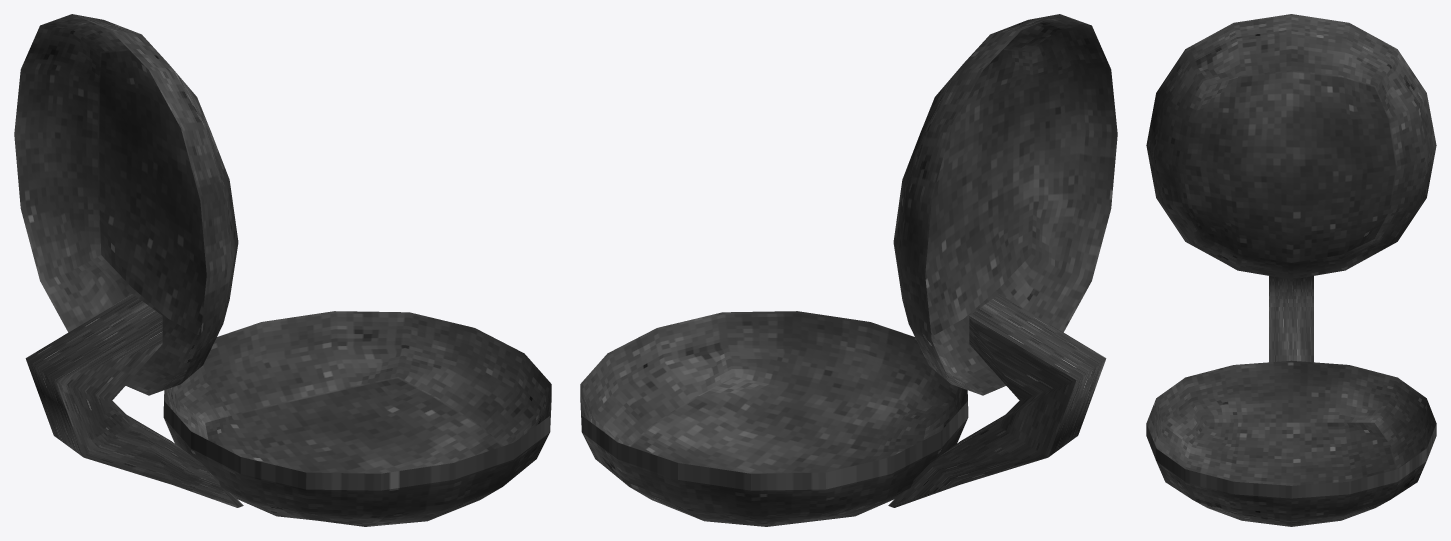
The model's file is Candlehold.glb.
3 renders of one model, left to right at view 1: azimuth 30°, elevation 25°; view 2: azimuth 150°, elevation 25°; view 3: azimuth 270°, elevation 25°, orthographic. The views are drawn at different scales.
Visible parts, largest first — view 1: candlehold_geo; view 2: candlehold_geo; view 3: candlehold_geo.
Boxes of the visible parts, left/top/right/bottom form: candlehold_geo: left=14, top=14, right=551, bottom=526; candlehold_geo: left=580, top=14, right=1117, bottom=526; candlehold_geo: left=1146, top=14, right=1436, bottom=526.
Bounding box in the file's own units: 0.4342 × 0.447 × 0.2991.
1 material, 1 textured.
